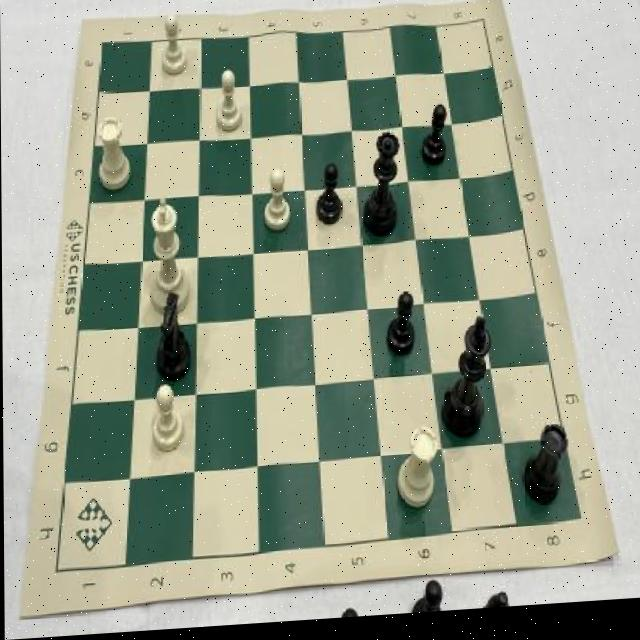black-bishop: (434, 317, 493, 451)
black-king: (150, 291, 196, 386)
black-knight: (383, 292, 420, 371), (419, 102, 451, 178), (312, 164, 343, 234)
black-pawn: (361, 131, 401, 246)
black-queen: (521, 424, 570, 517), (392, 426, 439, 517)
white-bishop: (144, 188, 191, 319)
white-knight: (148, 384, 186, 458), (261, 169, 294, 242), (211, 67, 244, 137), (157, 13, 190, 81)
white-queen: (93, 116, 135, 194)
